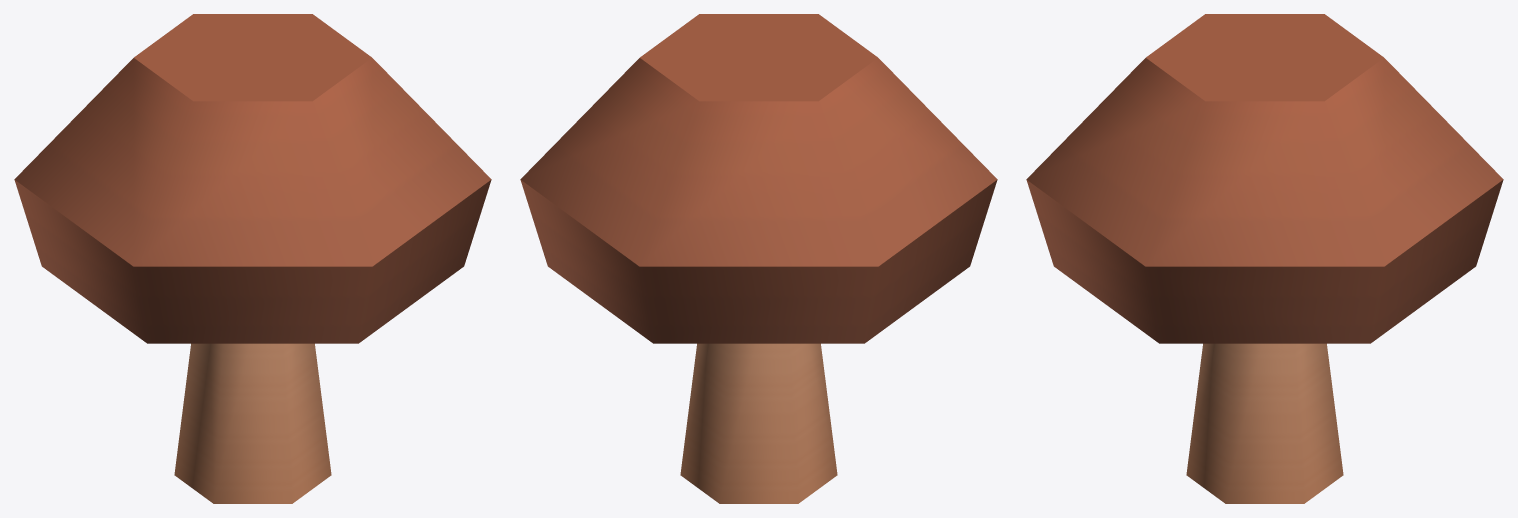
Rendered from mushroom.obj.
3 renders of one model, left to right at view 1: azimuth 30°, elevation 25°; view 2: azimuth 150°, elevation 25°; view 3: azimuth 270°, elevation 25°, orthographic.
Visible parts, largest first — view 1: mushroom; view 2: mushroom; view 3: mushroom.
Part boxes in pixels (x1,y1,x2,y2): mushroom: (14, 14, 491, 503); mushroom: (520, 14, 997, 503); mushroom: (1026, 14, 1503, 503).
Bounding box in the file's own units: 0.1249 × 0.1392 × 0.1442.
1 material, 1 textured.
